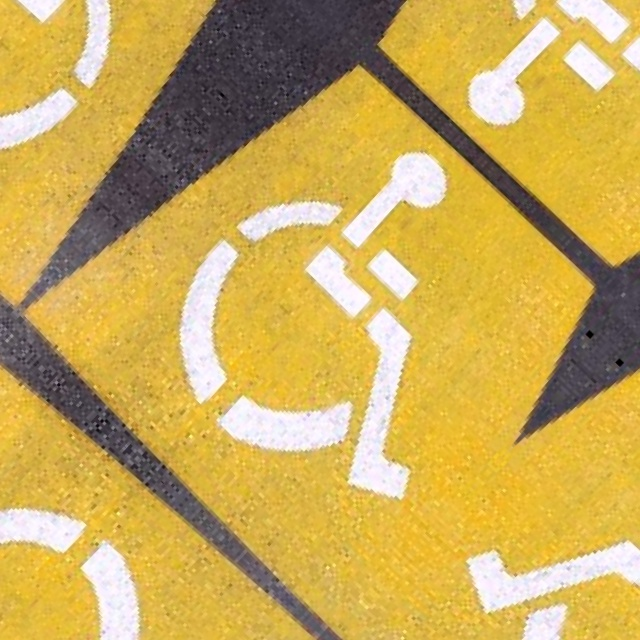ISA: (118, 84, 593, 561), (407, 357, 640, 640), (398, 0, 640, 264), (0, 446, 252, 640), (0, 0, 223, 213)
